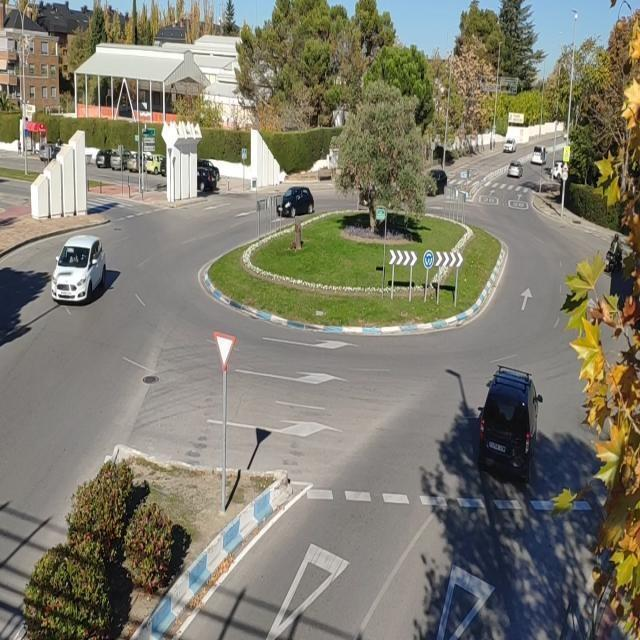Car: (462, 361, 559, 484), (38, 232, 116, 317), (274, 182, 320, 225), (424, 164, 456, 196), (541, 158, 574, 182), (498, 134, 520, 154), (506, 161, 524, 182)
